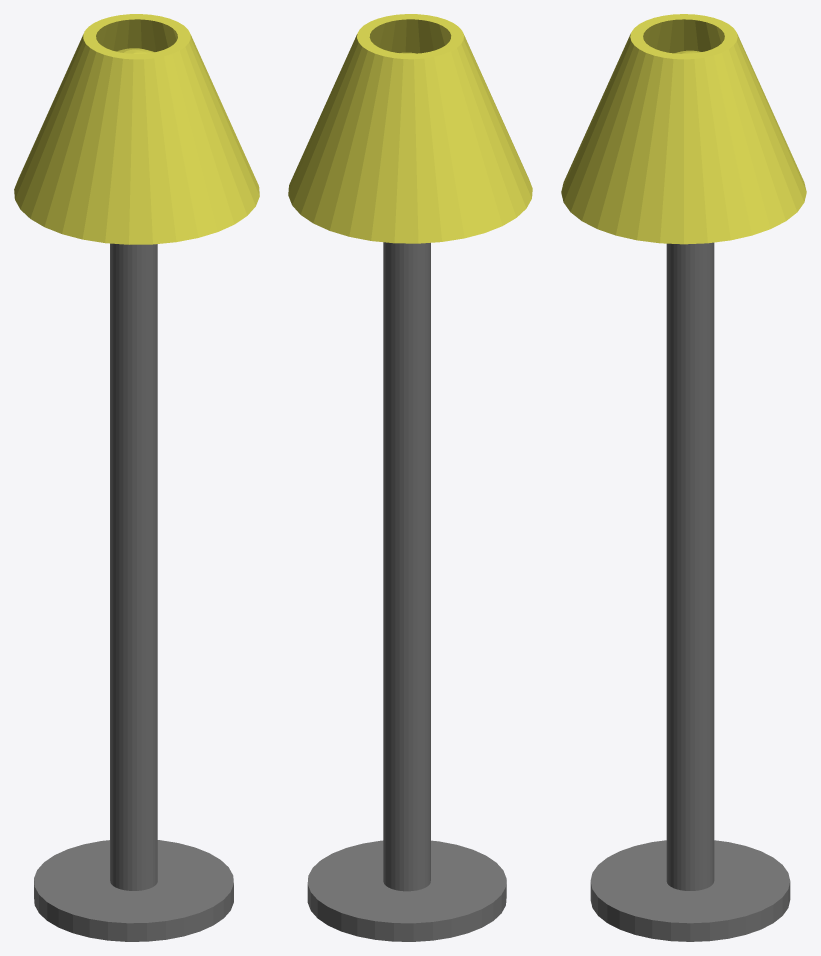
The model's file is lamp6.fbx.
3 views of the same model, side by side, from view 1: azimuth 30°, elevation 25°; view 2: azimuth 150°, elevation 25°; view 3: azimuth 270°, elevation 25° (orthographic).
Visible parts, largest first — view 1: Sphere, Cylinder.009; view 2: Sphere, Cylinder.009; view 3: Sphere, Cylinder.009.
Boxes of the visible parts, <box> form: Sphere: <box>34,48,233,941</box>; Cylinder.009: <box>14,14,259,244</box>; Sphere: <box>307,52,506,941</box>; Cylinder.009: <box>288,14,532,243</box>; Sphere: <box>590,50,790,941</box>; Cylinder.009: <box>561,14,806,244</box>.
Size of the model in its own units: 736 by 2852 by 736.
